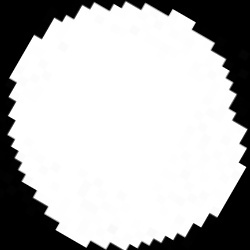spot: (8, 1, 247, 249)
